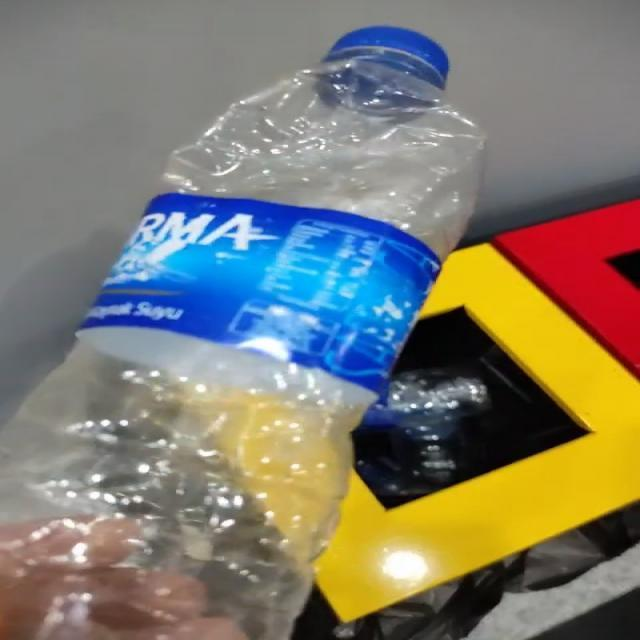Plastic: (3, 26, 484, 640)
